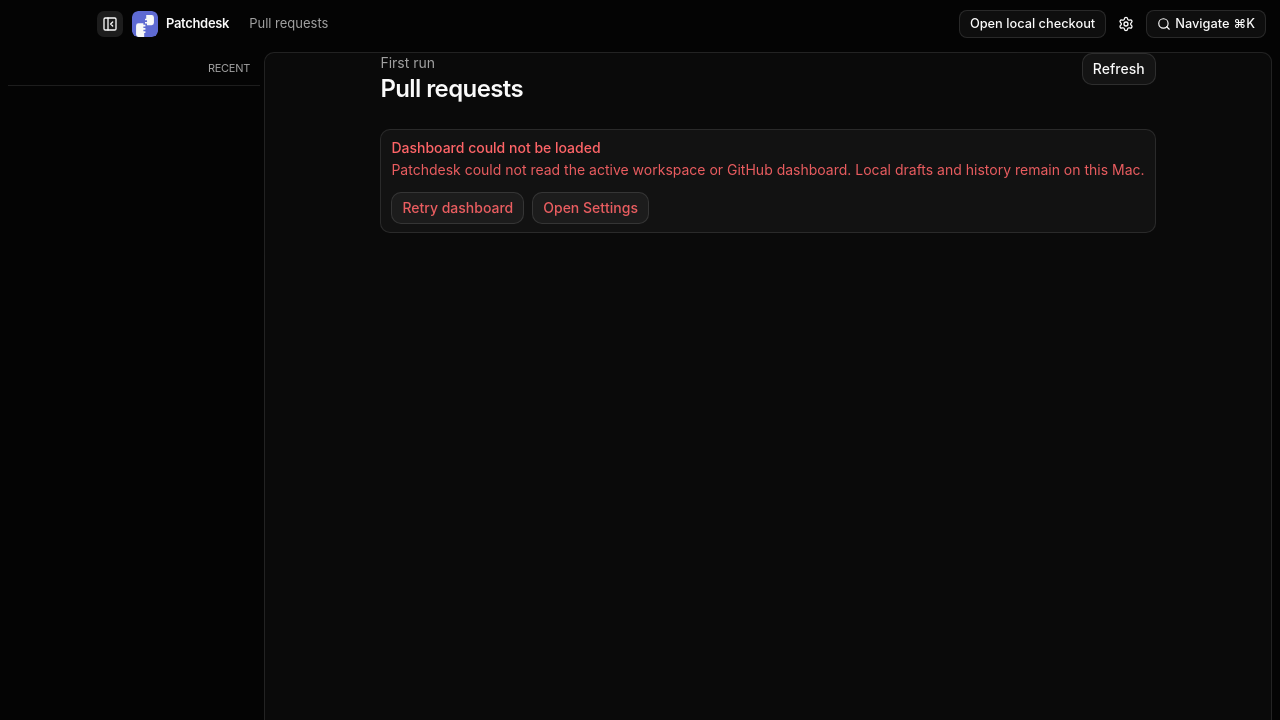
Test: file-backed renderer preferences › surfaces a read failure instead of silently falling back to defaults
expect the heading "Pull requests" is shown: met, box [380, 73, 523, 105]
Step 1. Click the button named "Settings" → coordinates (1126, 24), box [1112, 10, 1140, 38]
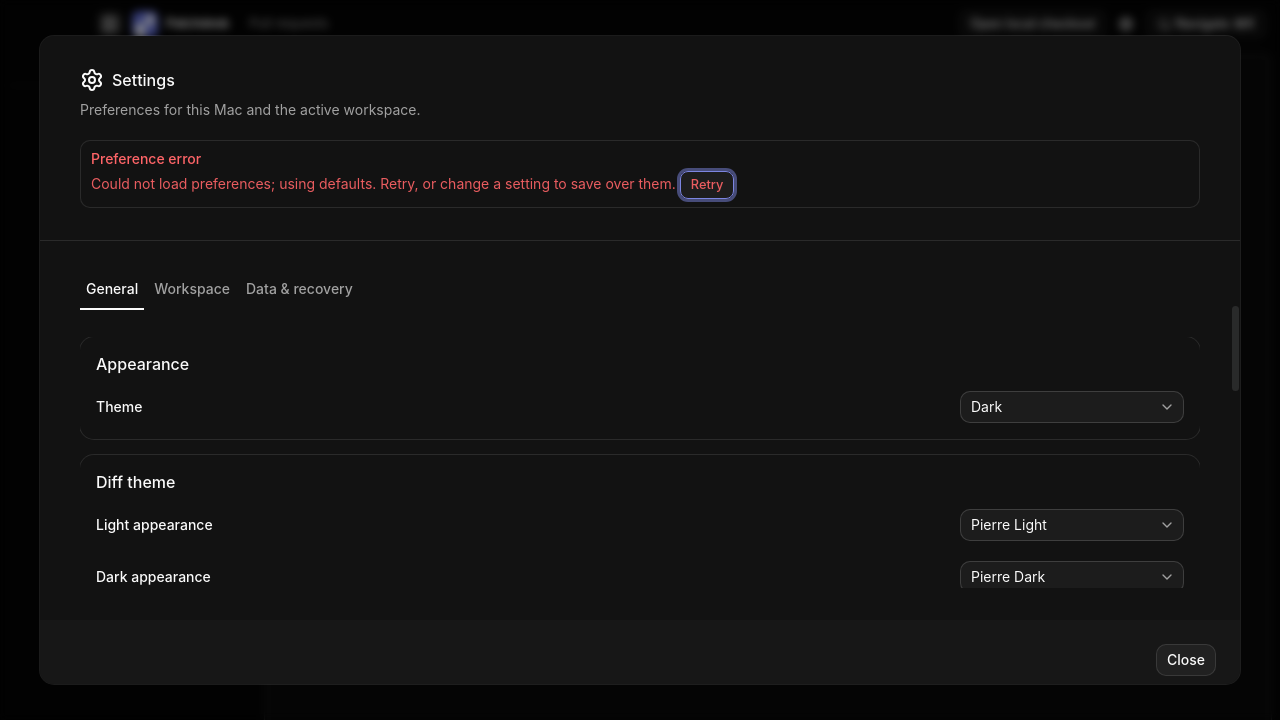
expect the dialog "Settings" is shown: met
expect the text "Could not load preferences; using defaults" is shown: met, box [91, 175, 676, 192]
